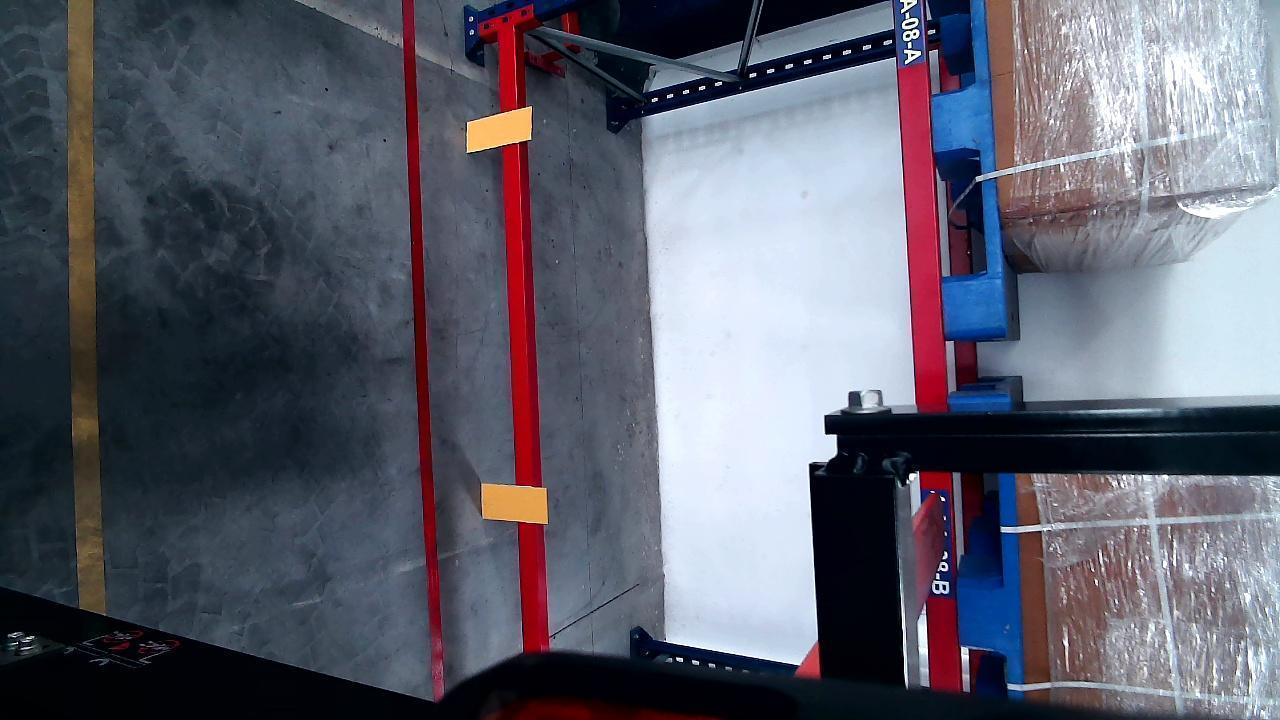red_line: (403, 1, 441, 697)
yellow_line: (66, 0, 102, 616)
